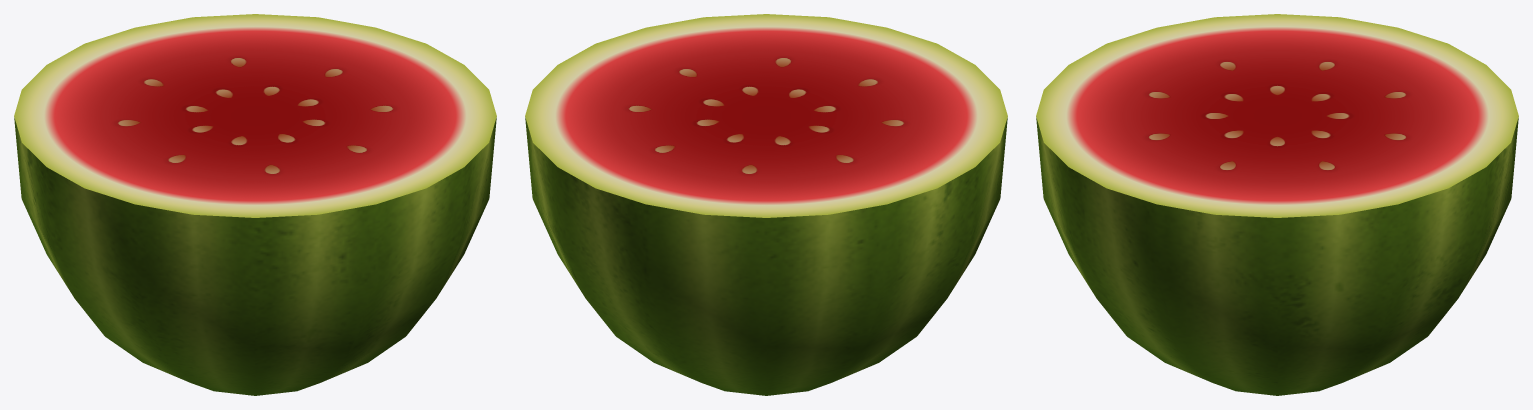
Rendered from Watermelon_Half_Bottom.fbx.
3 views of the same model, side by side, from view 1: azimuth 30°, elevation 25°; view 2: azimuth 150°, elevation 25°; view 3: azimuth 270°, elevation 25° (orthographic).
Visible parts, largest first — view 1: Watermelon_Half_Bottom; view 2: Watermelon_Half_Bottom; view 3: Watermelon_Half_Bottom.
Part boxes in pixels (box(x1,y1,x2,y2)): Watermelon_Half_Bottom: box(14, 14, 496, 395); Watermelon_Half_Bottom: box(525, 14, 1007, 395); Watermelon_Half_Bottom: box(1036, 14, 1518, 395).
Size of the model in its own units: 2.44 by 1.44 by 2.44.
